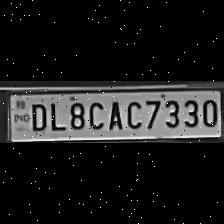0: (198, 96, 218, 128)
3: (161, 97, 179, 129), (180, 96, 198, 128)
7: (142, 96, 160, 130)
8: (66, 99, 86, 131)
A: (105, 97, 123, 130)
C: (85, 97, 105, 130), (124, 96, 142, 130)
D: (26, 100, 48, 132)
L: (48, 98, 64, 132)
